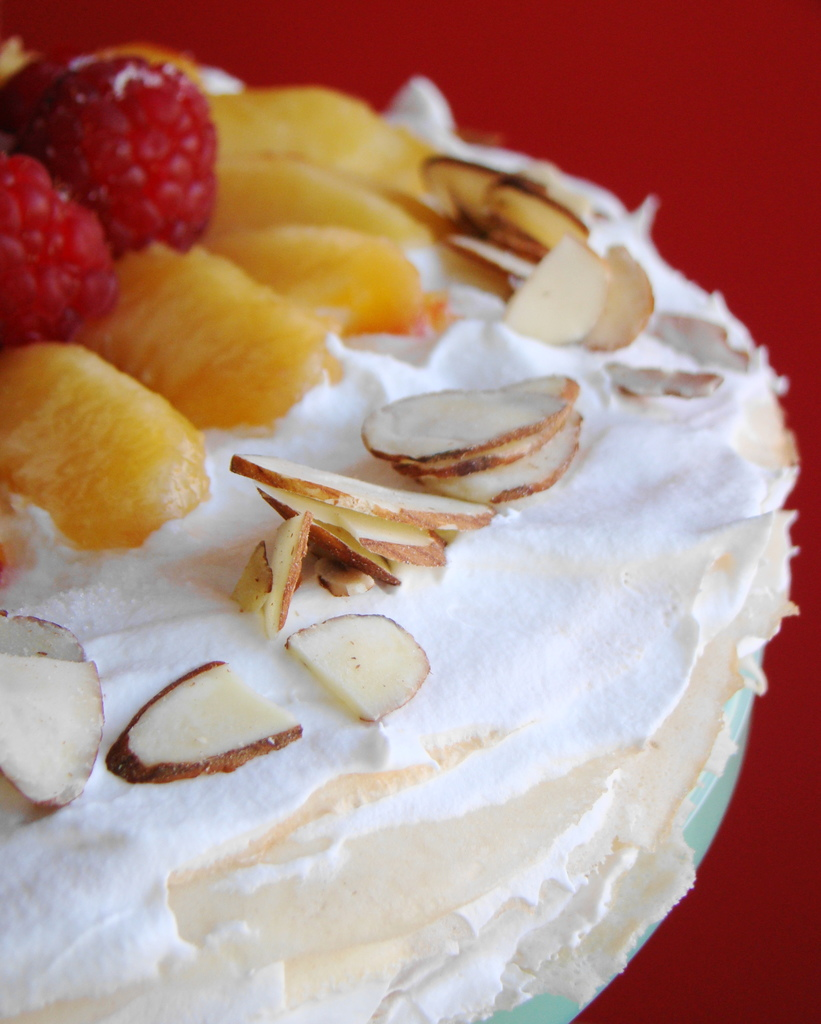cake: (0, 41, 798, 1023)
